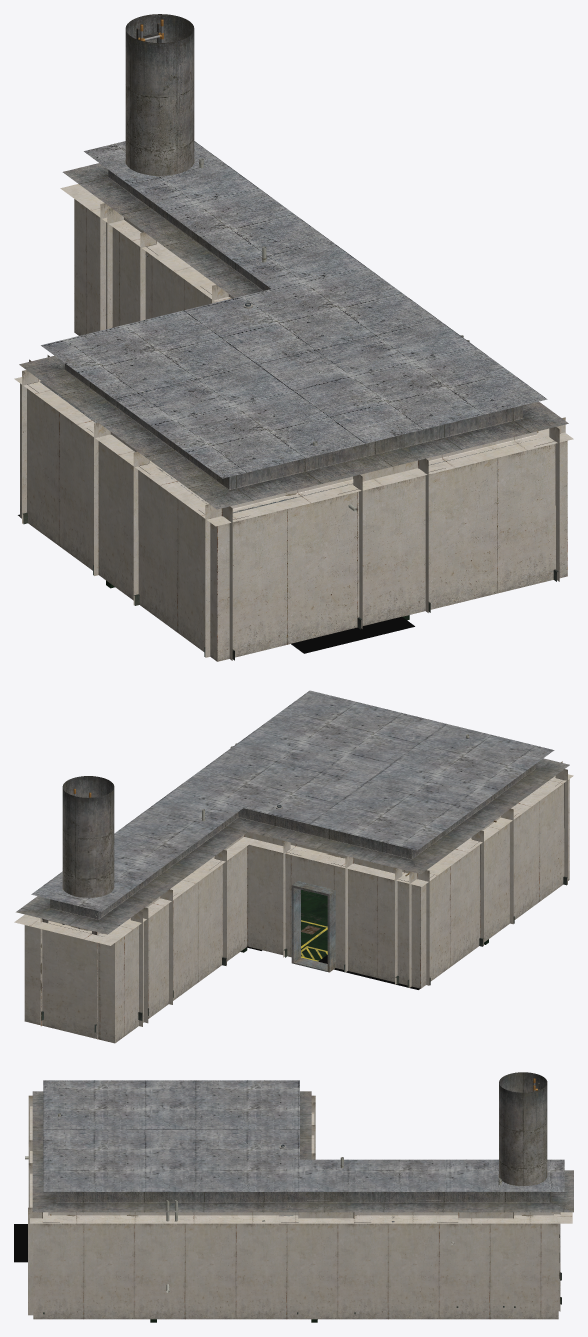
3 views of the same model, one above another, from view 1: azimuth 30°, elevation 25°; view 2: azimuth 150°, elevation 25°; view 3: azimuth 270°, elevation 25° (orthographic). The views are drawn at different scales.
Parts seen in each view (by area): view 1: LOD_1_Group_0_Sub_5__st3_policeUndergroundWall09, LOD_1_Group_0_Sub_10__st3_policeUndergroundCeiling04, LOD_1_Group_0_Sub_9__st3_policeUndergroundWall03, LOD_1_Group_0_Sub_12__st2_FloorWater01__Env_Decal; view 2: LOD_1_Group_0_Sub_5__st3_policeUndergroundWall09, LOD_1_Group_0_Sub_10__st3_policeUndergroundCeiling04, LOD_1_Group_0_Sub_9__st3_policeUndergroundWall03, LOD_1_Group_0_Sub_8__st3_policeUndergroundDoor01, LOD_1_Group_0_Sub_1__st3_sTPEastFloor03; view 3: LOD_1_Group_0_Sub_5__st3_policeUndergroundWall09, LOD_1_Group_0_Sub_10__st3_policeUndergroundCeiling04, LOD_1_Group_0_Sub_9__st3_policeUndergroundWall03, LOD_1_Group_0_Sub_12__st2_FloorWater01__Env_Decal.
Part boxes in pixels (x1,y1,x2,y2): LOD_1_Group_0_Sub_5__st3_policeUndergroundWall09: (14,184,573,661); LOD_1_Group_0_Sub_10__st3_policeUndergroundCeiling04: (41,141,547,478); LOD_1_Group_0_Sub_9__st3_policeUndergroundWall03: (19,14,568,509); LOD_1_Group_0_Sub_12__st2_FloorWater01__Env_Decal: (18,514,414,653); LOD_1_Group_0_Sub_5__st3_policeUndergroundWall09: (14,761,573,1043); LOD_1_Group_0_Sub_10__st3_policeUndergroundCeiling04: (31,690,554,911); LOD_1_Group_0_Sub_9__st3_policeUndergroundWall03: (16,758,569,934); LOD_1_Group_0_Sub_8__st3_policeUndergroundDoor01: (291,881,335,972); LOD_1_Group_0_Sub_1__st3_sTPEastFloor03: (240,889,488,960); LOD_1_Group_0_Sub_5__st3_policeUndergroundWall09: (28,1095,572,1319); LOD_1_Group_0_Sub_10__st3_policeUndergroundCeiling04: (43,1080,564,1191); LOD_1_Group_0_Sub_9__st3_policeUndergroundWall03: (32,1072,573,1212); LOD_1_Group_0_Sub_12__st2_FloorWater01__Env_Decal: (14,1224,27,1262).
Bounding box in the file's own units: 8.24 × 6.59 × 15.21.
